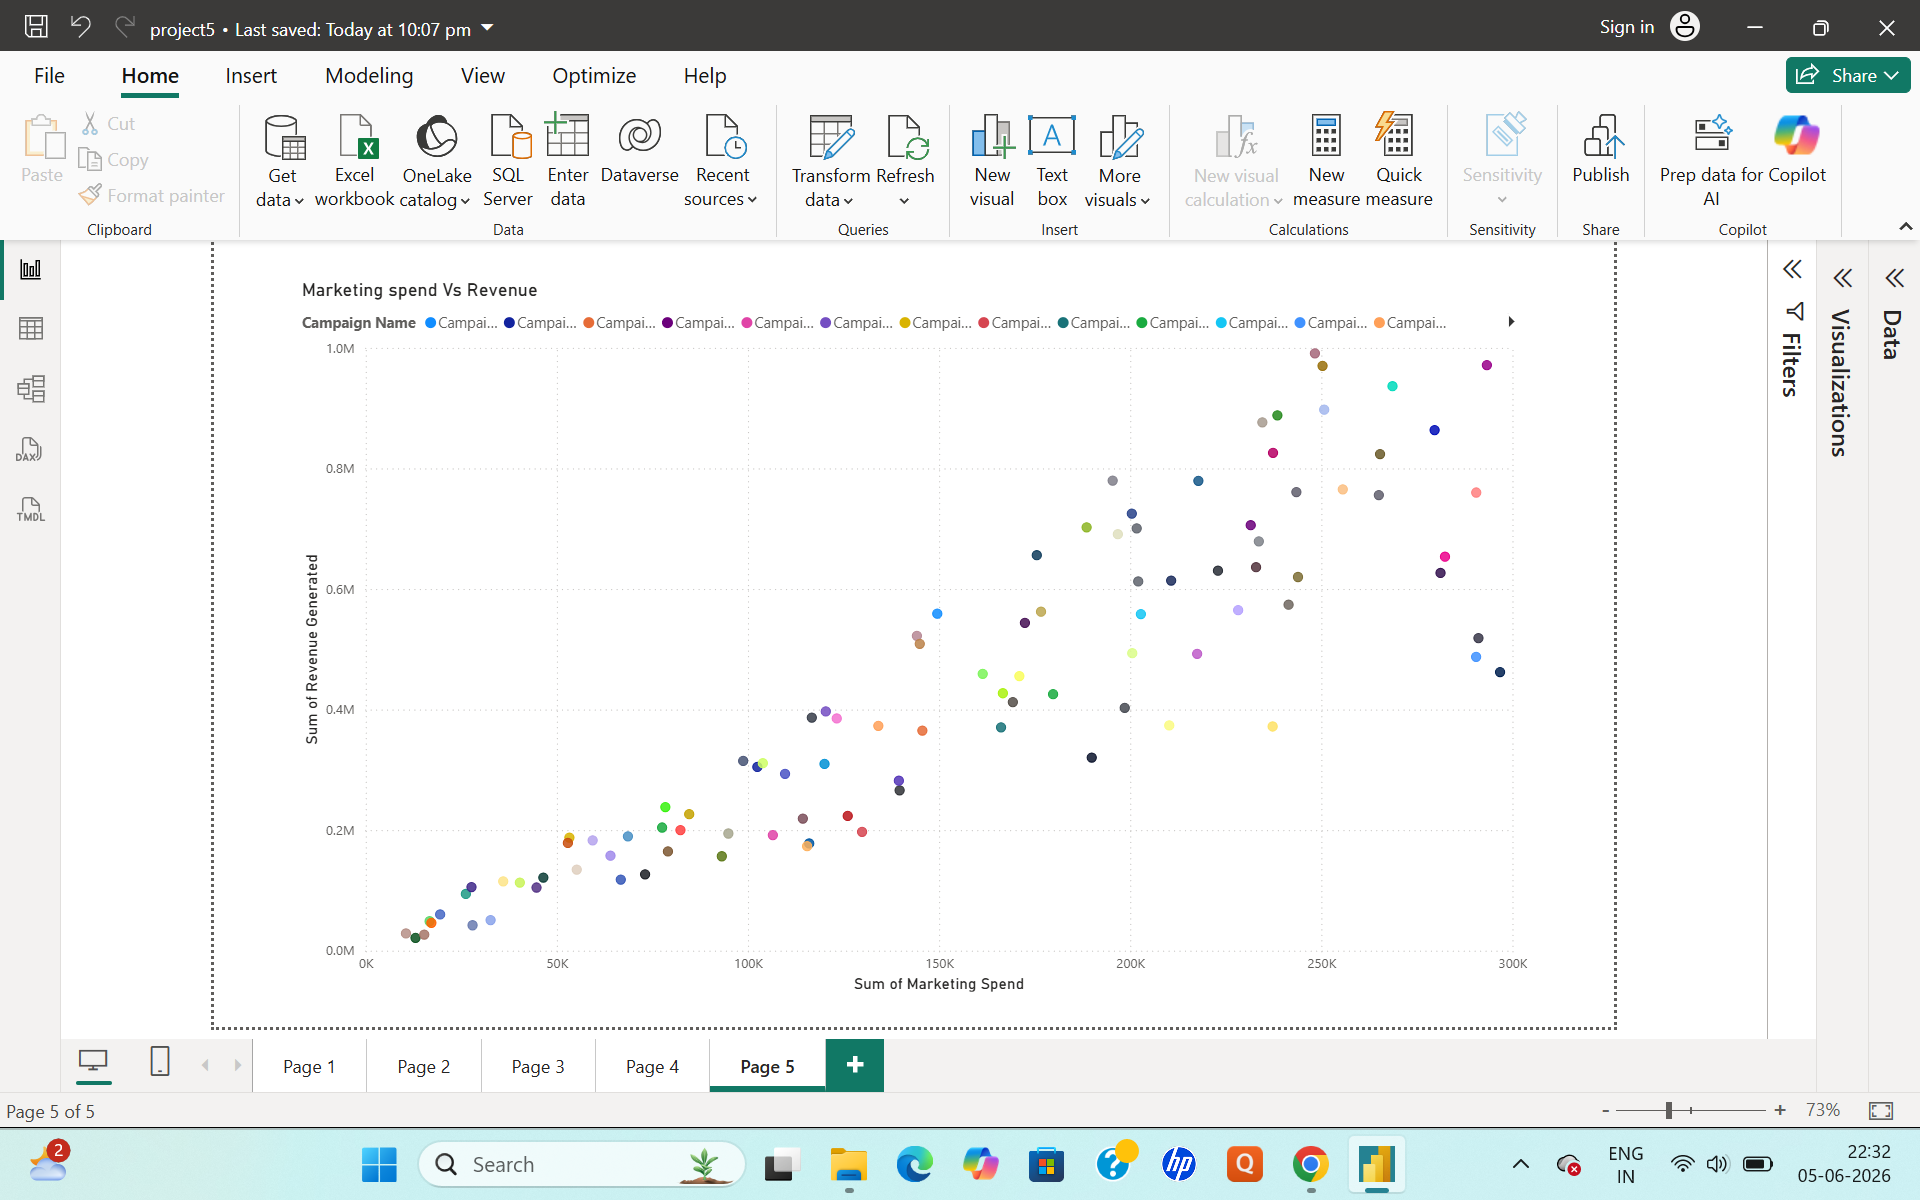

The dashboard page shown, as its layout file describes it:
{"tool":"powerbi","page":{"name":"Page 5","canvas":[1280,720],"ordinal":4},"visuals":[{"type":"scatterChart","title":"Marketing spend Vs Revenue","fields":{"X":["Sum(Marketing_Campaign_Cleaned.Marketing Spend)"],"Y":["Sum(Marketing_Campaign_Cleaned.Revenue Generated)"],"Category":["Marketing_Campaign_Cleaned.Platform"],"Series":["Marketing_Campaign_Cleaned.Campaign Name"]},"box":[75.7,36.3,1131.1,657.2],"z":0}]}

Visuals, with their boxes on the page's 1280x720 design canvas (x1, y1, x2, y2). These are canvas units, not pixel positions in the 1920x1200 screenshot, which may show the page scaled, cropped or inside an application window:
"Marketing spend Vs Revenue" scatterChart: box=[76, 36, 1207, 694]
